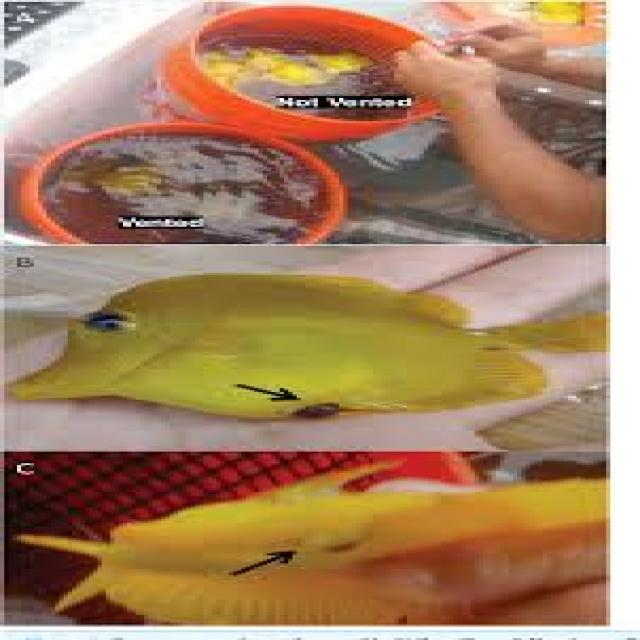YellowTang: (28, 266, 627, 437), (19, 469, 621, 614)
